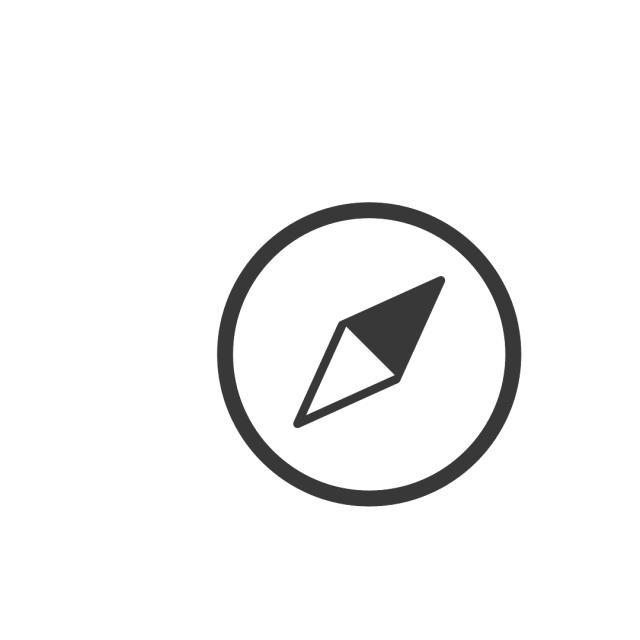compass: (212, 199, 526, 514)
